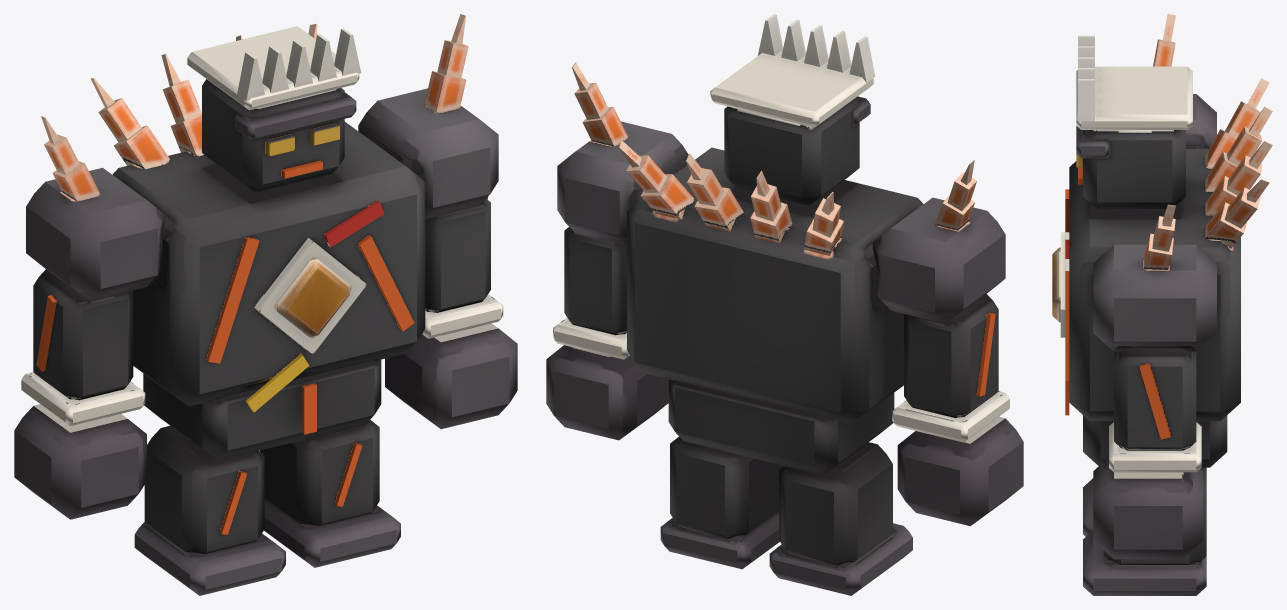
The model's file is TitanLave_Rig.fbx.
3 views of the same model, side by side, from view 1: azimuth 30°, elevation 25°; view 2: azimuth 150°, elevation 25°; view 3: azimuth 270°, elevation 25° (orthographic). The views are drawn at different scales.
Parts seen in each view (by area): view 1: Body, ArmR, ArmL, Head, LegR, LegL; view 2: Body, ArmR, ArmL, Head, LegR, LegL; view 3: ArmL, Body, Head, LegL, ArmR, LegR.
Part boxes in pixels (x1,y1,x2,y2): Body: (91,23,425,460); ArmR: (14,116,166,519); ArmL: (358,14,517,429); Head: (187,26,361,192); LegR: (134,425,285,595); LegL: (260,419,400,567); Body: (618,140,923,475); ArmR: (872,160,1023,526); ArmL: (546,62,688,440); Head: (710,14,875,205); LegR: (769,442,912,595); LegL: (660,436,783,569); ArmL: (1093,204,1216,559); Body: (1052,78,1272,467); Head: (1076,35,1192,208); LegL: (1083,467,1206,595); ArmR: (1153,14,1216,148); LegR: (1083,478,1093,536).
Bounding box in the file's own units: 5.51 × 6 × 2.42.
Materials: 1 (1 with a texture image).
